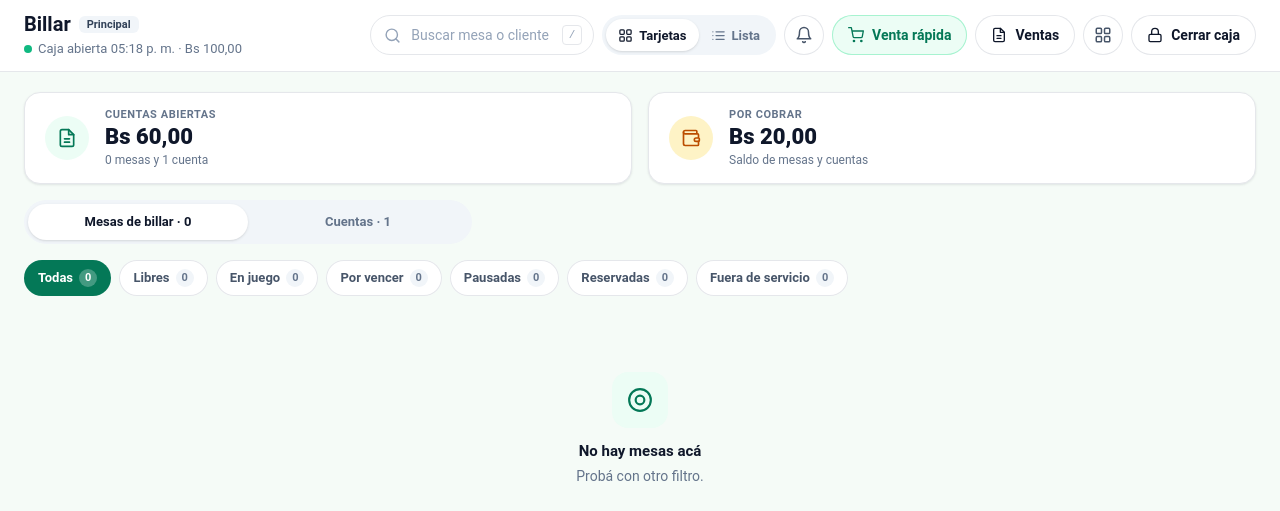
Test: Billar: las cuentas abiertas › la pestaña Cuentas muestra la cuenta con su total y lo que falta, y arriba suma con las mesas
Expected: the heading "Billar Principal" is shown, 24,12 -> 139,36
Expected: the text "0 mesas y 1 cuenta" is shown, 105,150 -> 216,168
Click the radio button labelled "Cuentas · 1". click: {"x": 358, "y": 222}
box: 248,204 -> 468,240
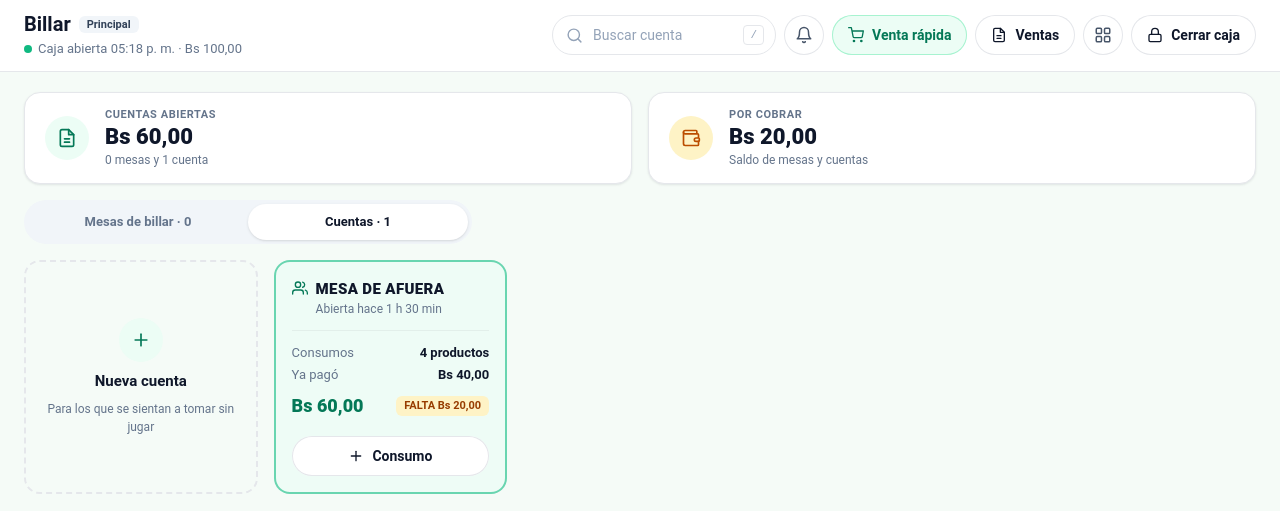
Result: the text "Bs 60,00" next to "FALTA" is shown at 292,395 -> 364,416
Result: the text "Bs 20,00" next to "FALTA" is shown at 438,399 -> 481,412
Result: the button "Pausadas" is gone
